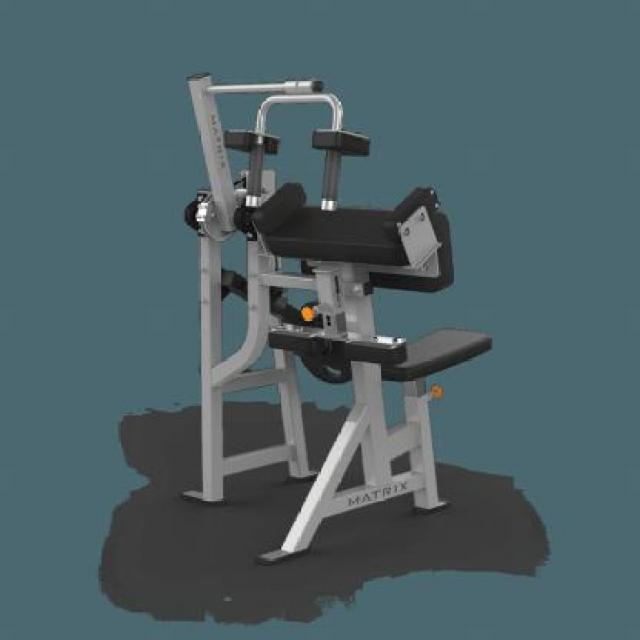arm curl machine: (182, 72, 496, 568)
